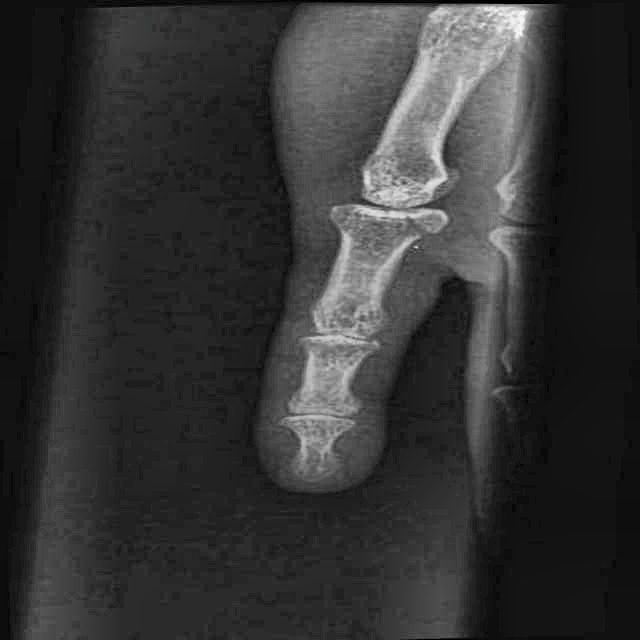Greenstick: (368, 172, 475, 246)
